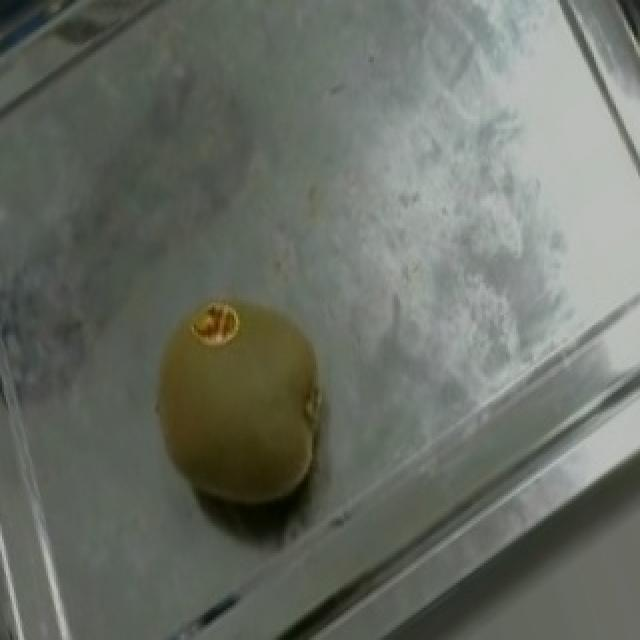Fruit: (116, 276, 368, 548)
